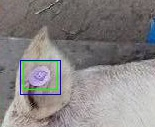text: (23, 61, 57, 89)
